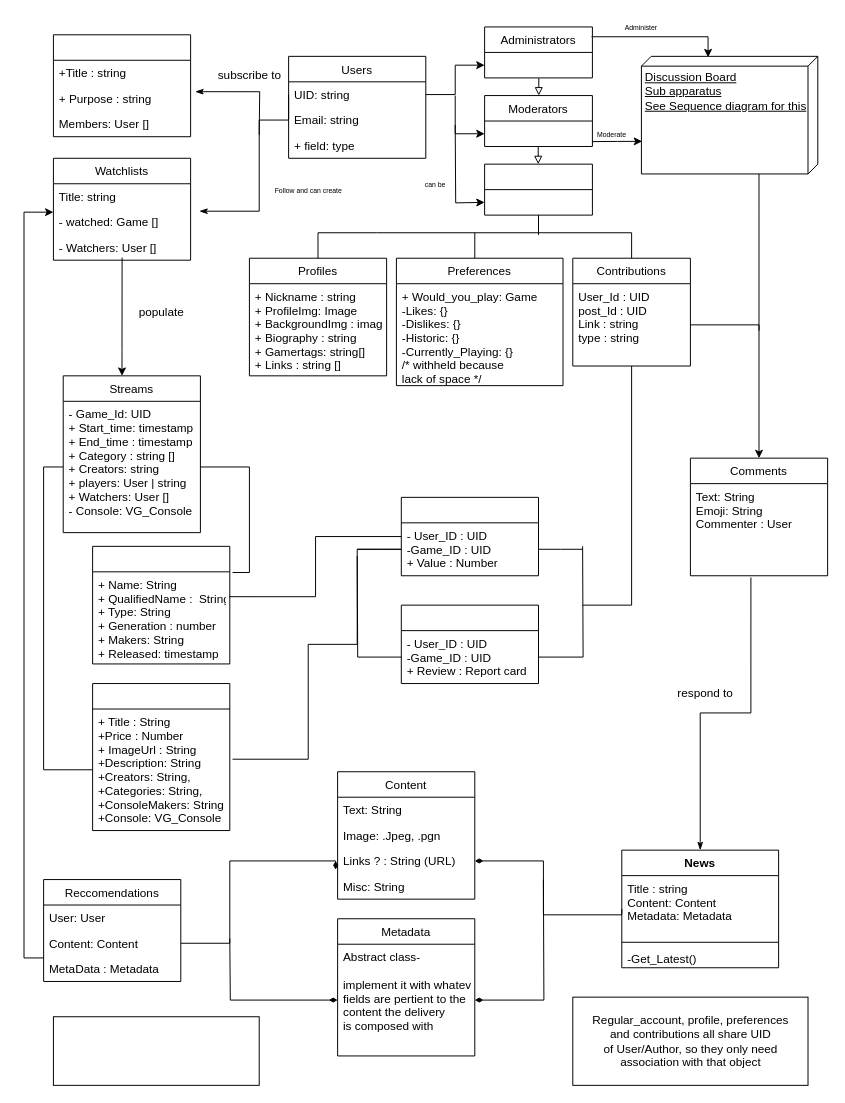
The diagram is 845 pixels wide and 1103 high, and some of its shapes have lost their labels. Here are the shapes that lost their labels. From the top down, the box of each, then its label:
(52, 34, 191, 137): Groups
(484, 163, 592, 215): Regular Accounts
(400, 496, 539, 576): Ratings
(92, 545, 230, 664): VideogameConsole
(400, 604, 539, 684): Reviews
(92, 683, 230, 831): Games
(52, 1016, 259, 1085): UIDs are only included as attribute if needed as implementation detail.
